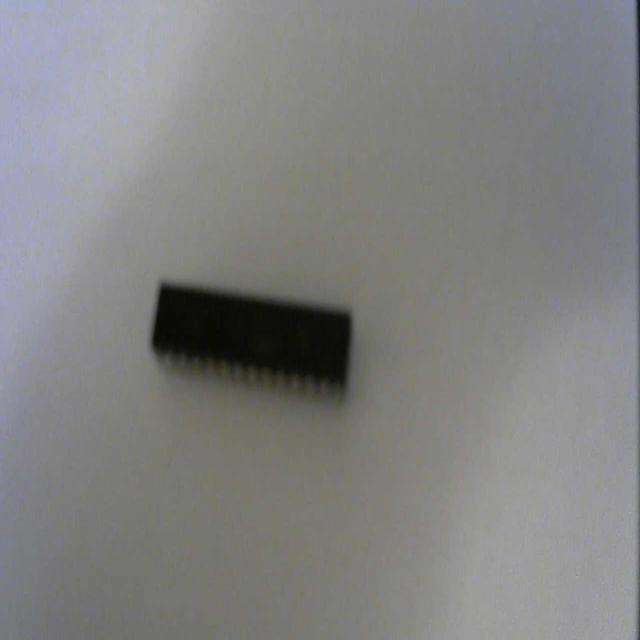atmega: (148, 276, 354, 404)
